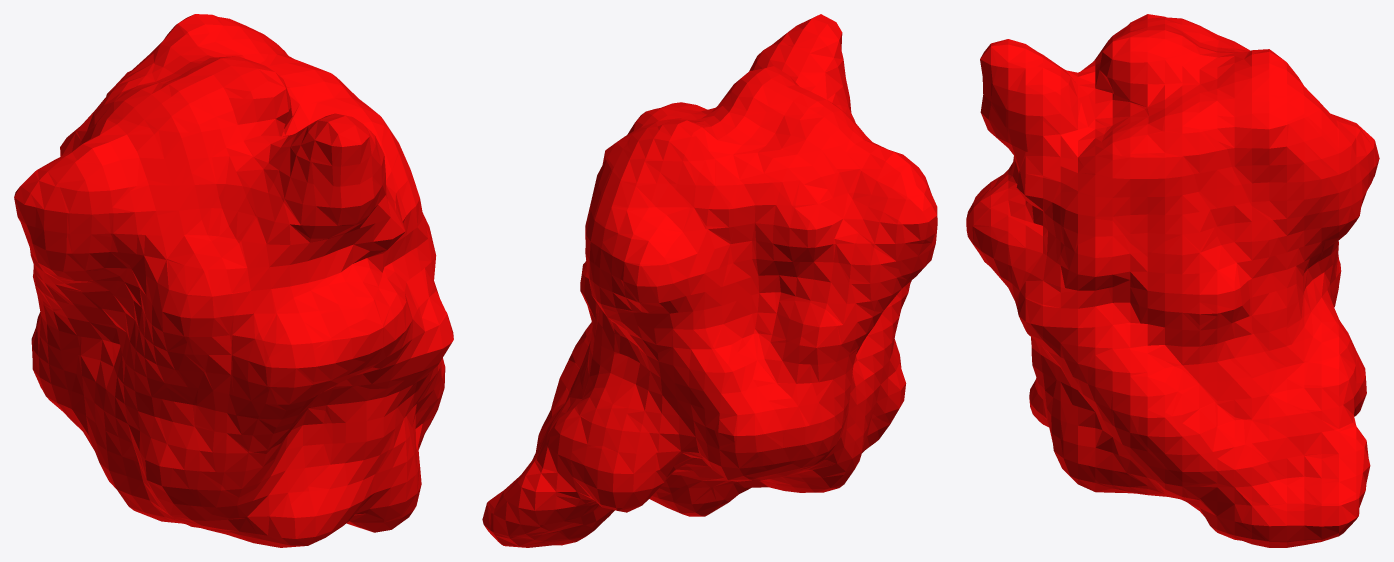
The model's file is yifK_coarse.dae.
3 renders of one model, left to right at view 1: azimuth 30°, elevation 25°; view 2: azimuth 150°, elevation 25°; view 3: azimuth 270°, elevation 25°, orthographic. The views are drawn at different scales.
Parts seen in each view (by area): view 1: yifK; view 2: yifK; view 3: yifK.
Part boxes in pixels (left/top/right/bottom): yifK: left=14, top=14, right=453, bottom=547; yifK: left=482, top=14, right=937, bottom=547; yifK: left=966, top=14, right=1379, bottom=547.
Bounding box in the file's own units: 57.62 × 67.88 × 57.62.
